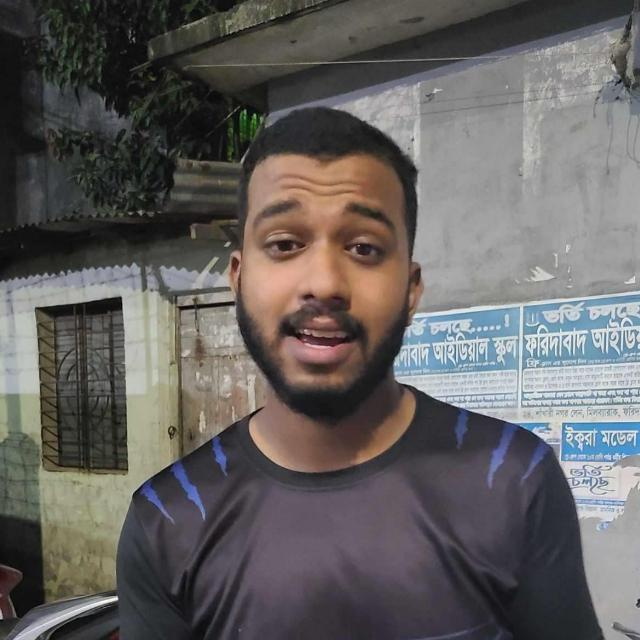Surprised: (216, 147, 438, 434)
